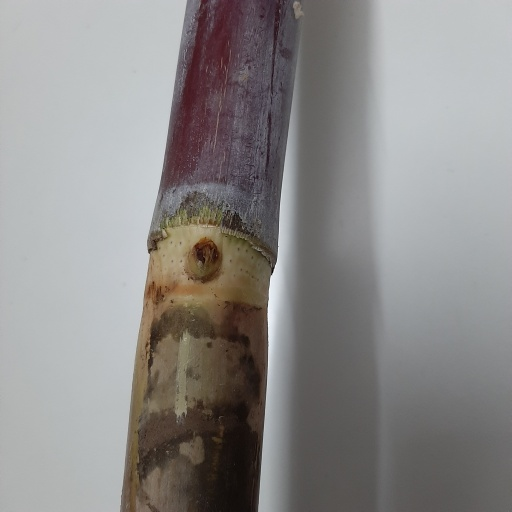Bud: (188, 240, 220, 282)
